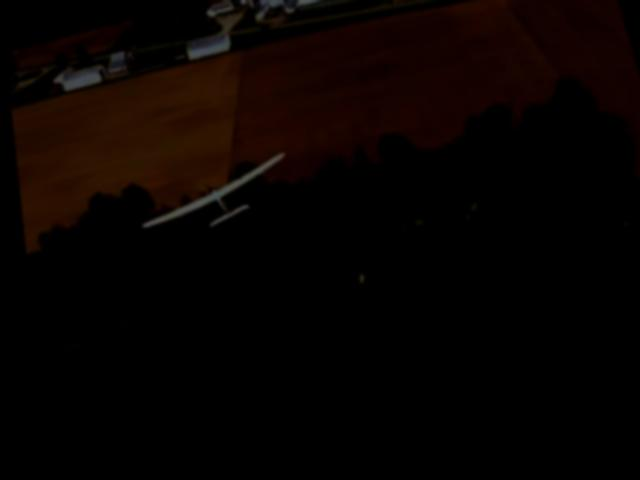iha: (122, 154, 296, 251)
